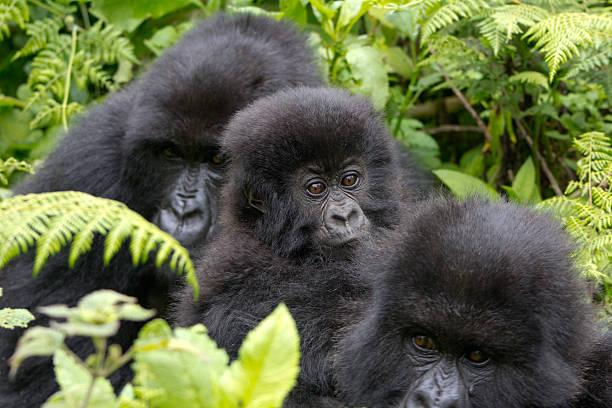goriile_montagne: (0, 24, 321, 319), (211, 91, 422, 383), (322, 207, 612, 408)
